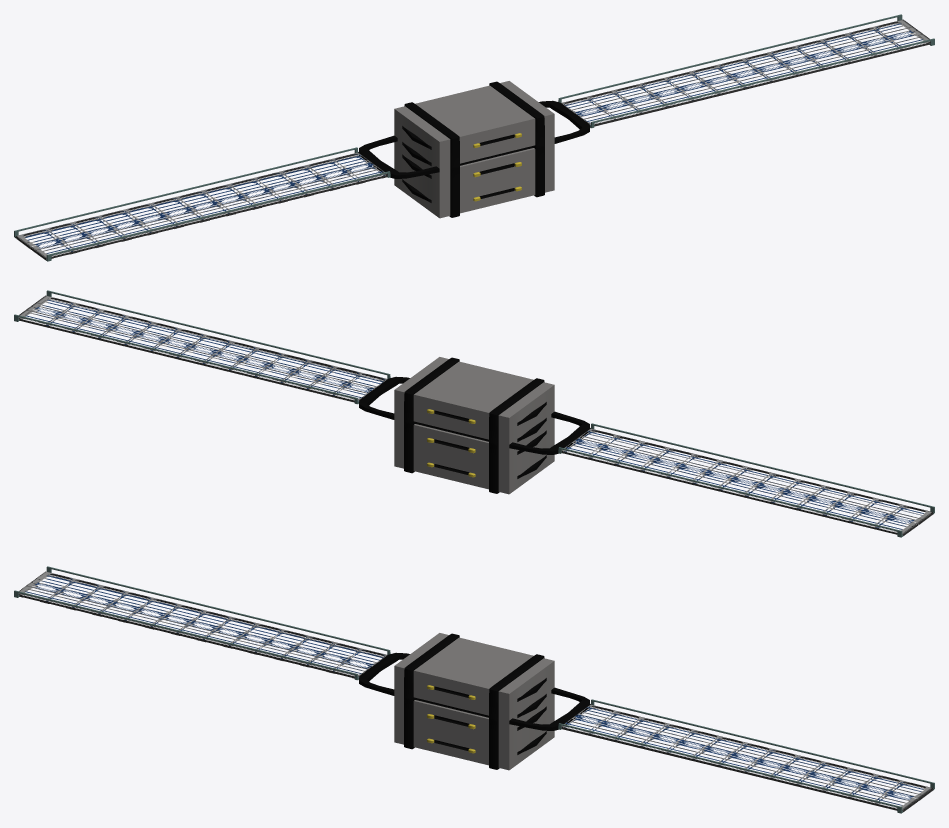
Rendered from Satellite.fbx.
3 views of the same model, one above another, from view 1: azimuth 30°, elevation 25°; view 2: azimuth 150°, elevation 25°; view 3: azimuth 330°, elevation 25° (orthographic).
Visible parts, largest first — view 1: Satellite; view 2: Satellite; view 3: Satellite.
Boxes of the visible parts, <box> form: Satellite: <box>14,14,934,261</box>; Satellite: <box>14,290,934,537</box>; Satellite: <box>14,566,934,813</box>.
Bounding box in the file's own units: 25238 × 2165 × 2382.
